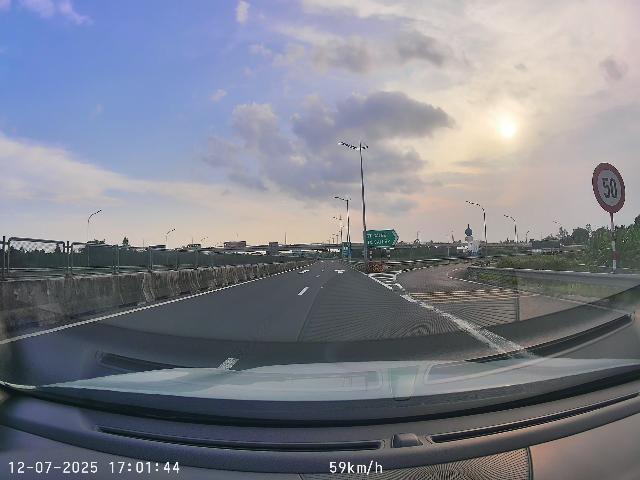127-toc-do-toi-da-50: (592, 162, 626, 214)
